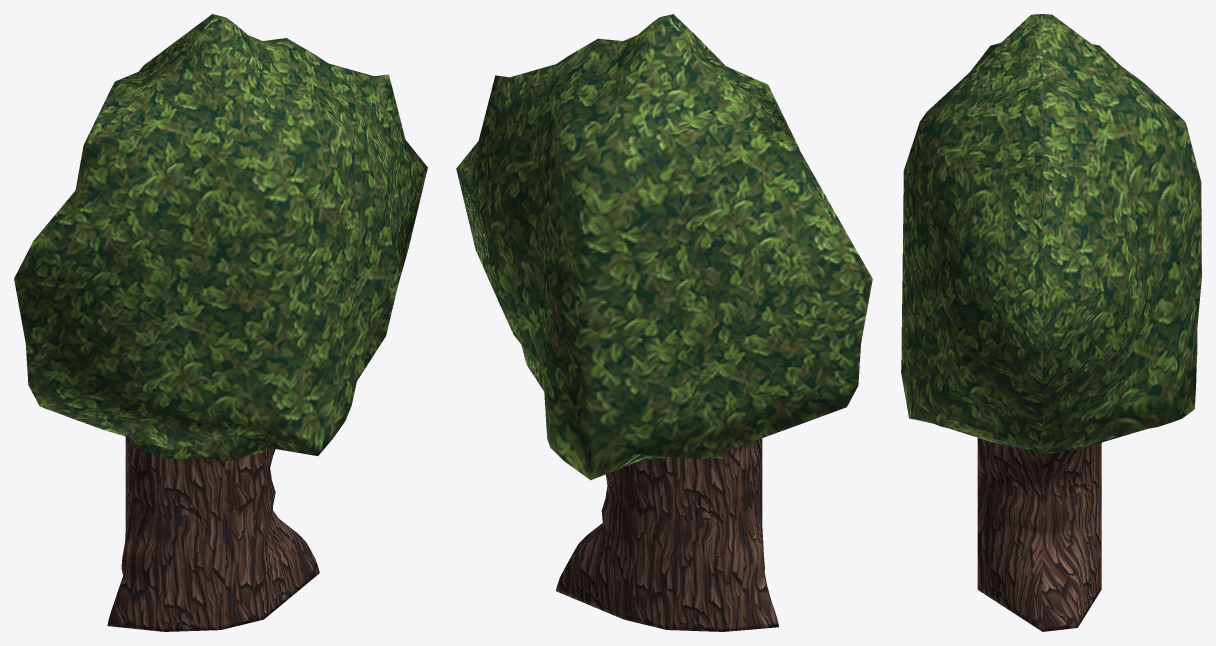
The model's file is tree01.fbx.
The picture shows the model from 3 angles, left to right: view 1: azimuth 30°, elevation 25°; view 2: azimuth 150°, elevation 25°; view 3: azimuth 270°, elevation 25°; orthographic projection. The views are drawn at different scales.
Parts seen in each view (by area): view 1: tree:Cylinder001; view 2: tree:Cylinder001; view 3: tree:Cylinder001.
Boxes of the visible parts, left/top/right/bottom form: tree:Cylinder001: left=14, top=14, right=427, bottom=631; tree:Cylinder001: left=456, top=14, right=872, bottom=631; tree:Cylinder001: left=901, top=14, right=1201, bottom=631.
Bounding box in the file's own units: 3193 × 4278 × 2049.
